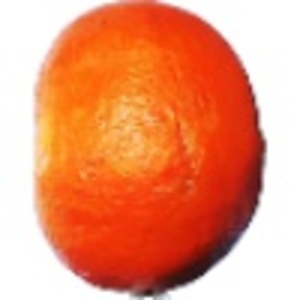tangerina: (31, 1, 269, 300)
